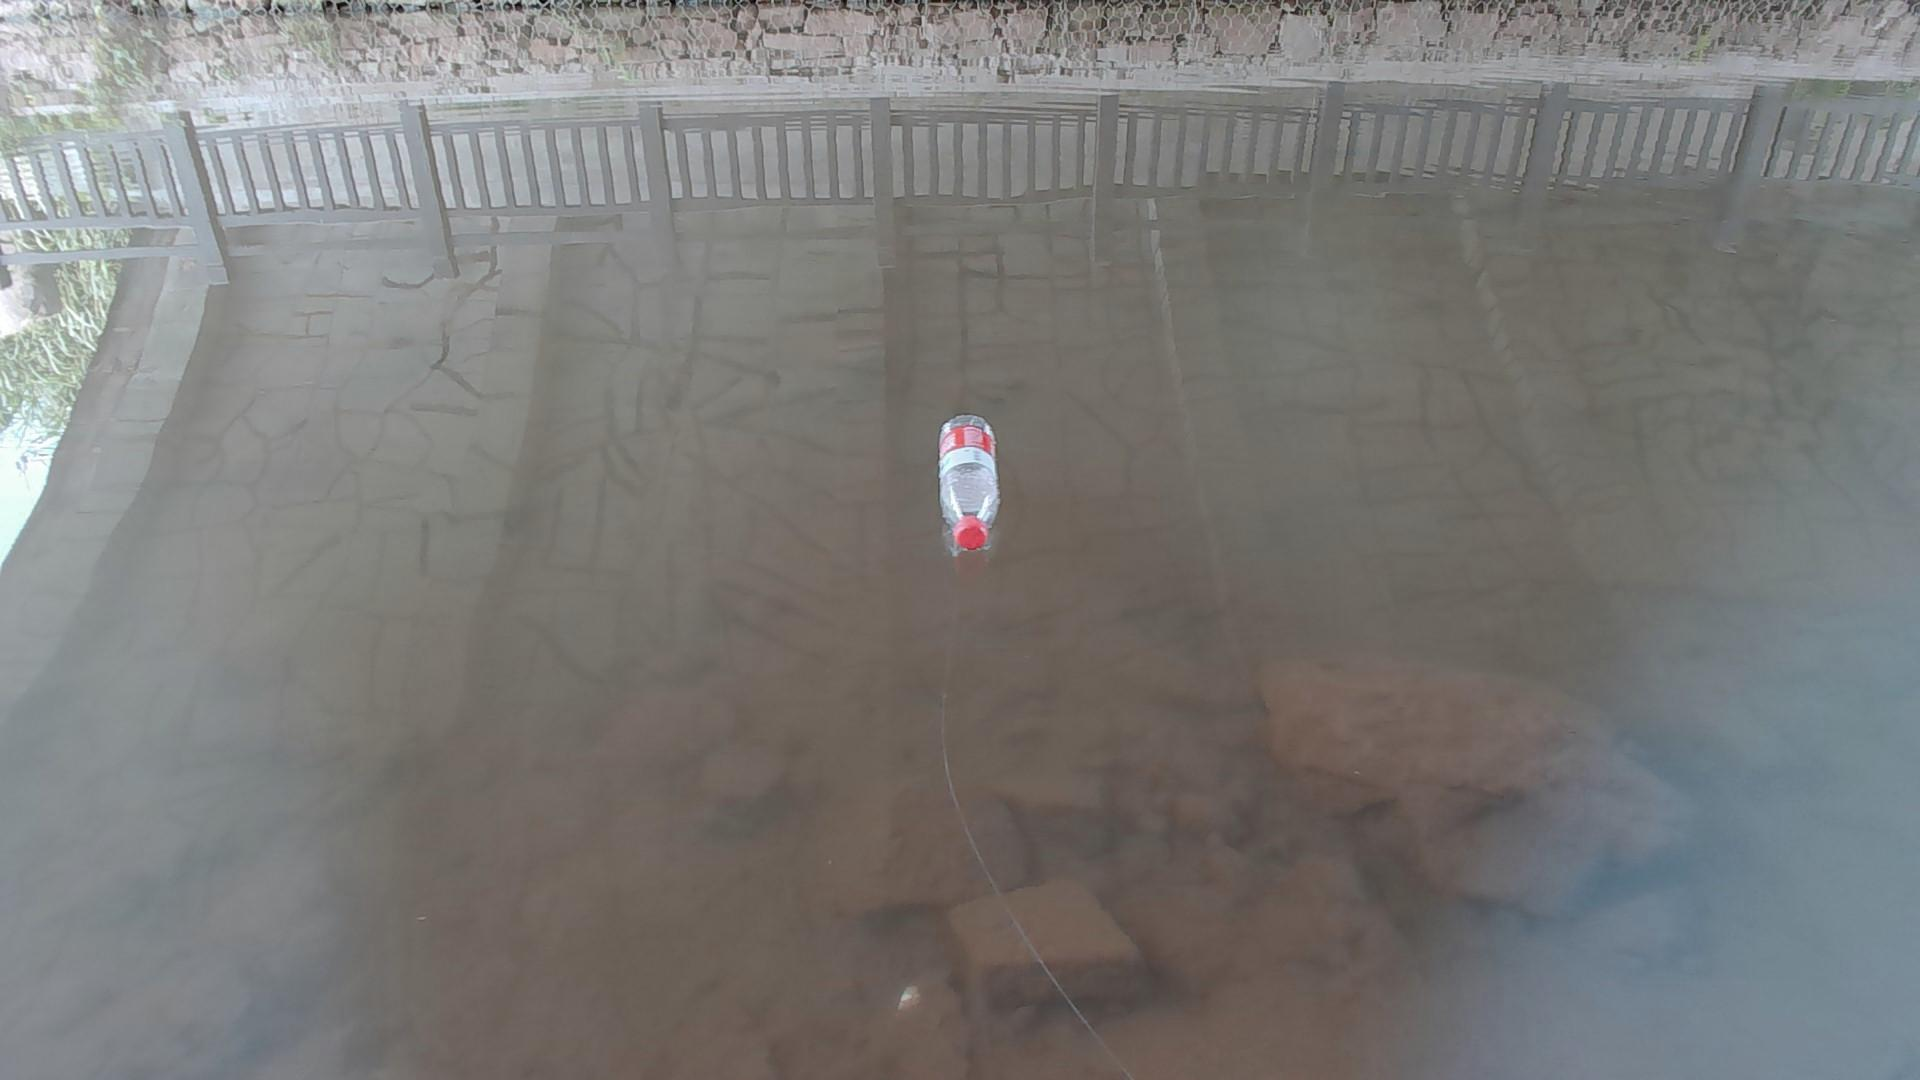Plastic: (934, 405, 1004, 553)
